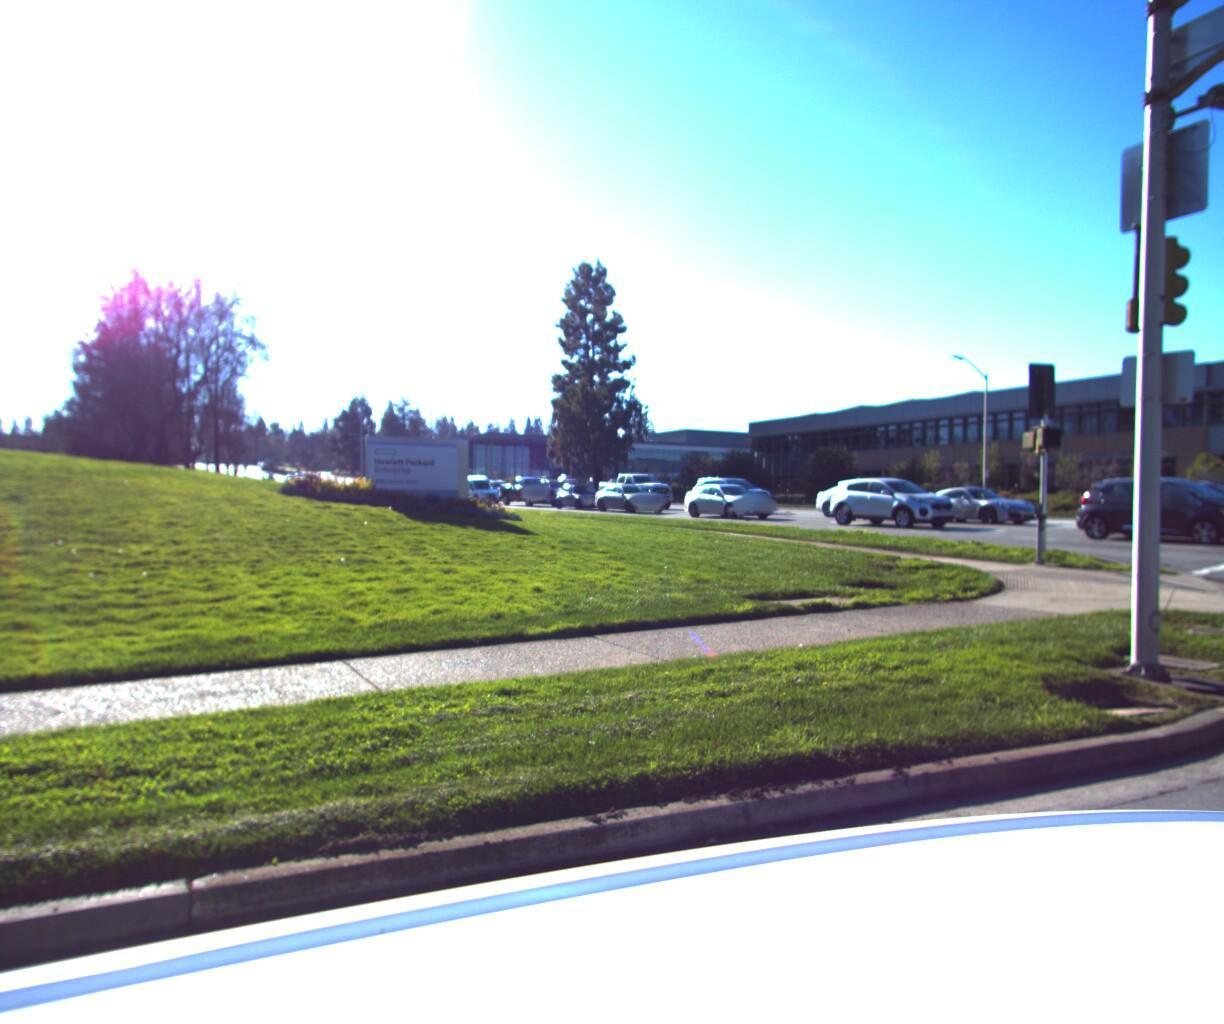car: (1068, 468, 1224, 542), (824, 469, 970, 524), (1096, 473, 1224, 533), (909, 478, 1054, 521), (807, 473, 936, 514), (677, 476, 780, 514), (594, 465, 681, 502), (592, 476, 674, 506), (501, 466, 563, 500), (545, 477, 612, 503), (456, 466, 506, 494)
